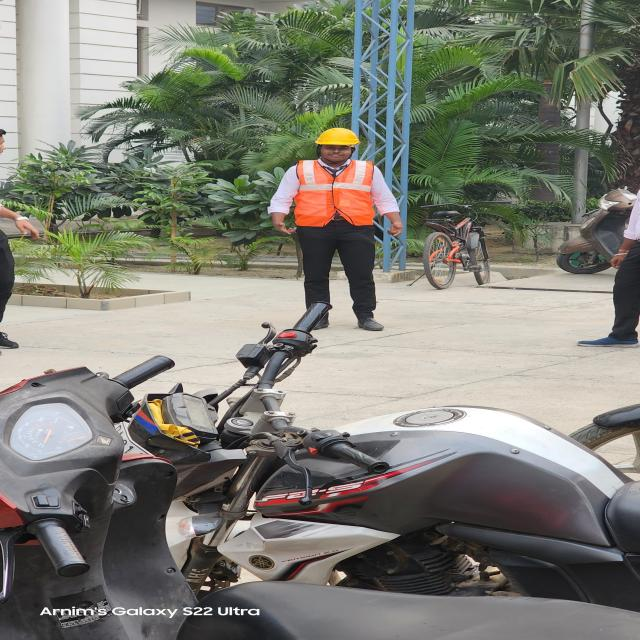safe: (282, 123, 397, 333)
